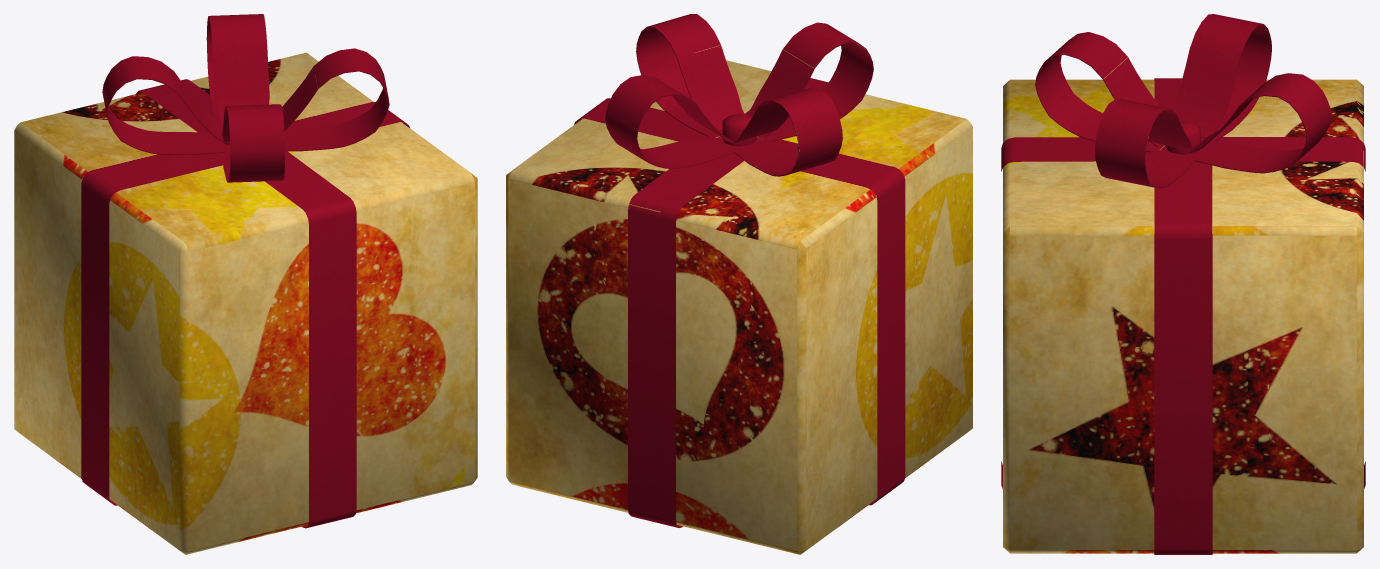
3 renders of one model, left to right at view 1: azimuth 30°, elevation 25°; view 2: azimuth 150°, elevation 25°; view 3: azimuth 270°, elevation 25°, orthographic. The views are drawn at different scales.
Visible parts, largest first — view 1: christmas present; view 2: christmas present; view 3: christmas present.
Part boxes in pixels (x1,y1,x2,y2): christmas present: (14, 14, 477, 554); christmas present: (506, 14, 972, 554); christmas present: (1001, 14, 1365, 554).
Bounding box in the file's own units: 40.39 × 51.28 × 40.29.
Materials: 1 (1 with a texture image).
